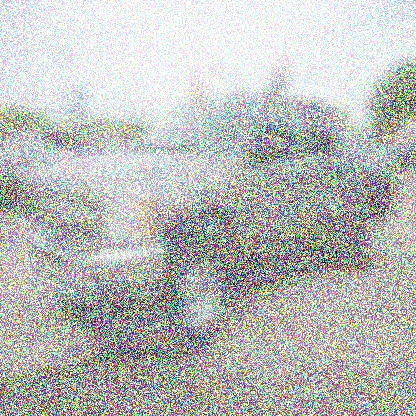Vehicle: (19, 86, 403, 358)
